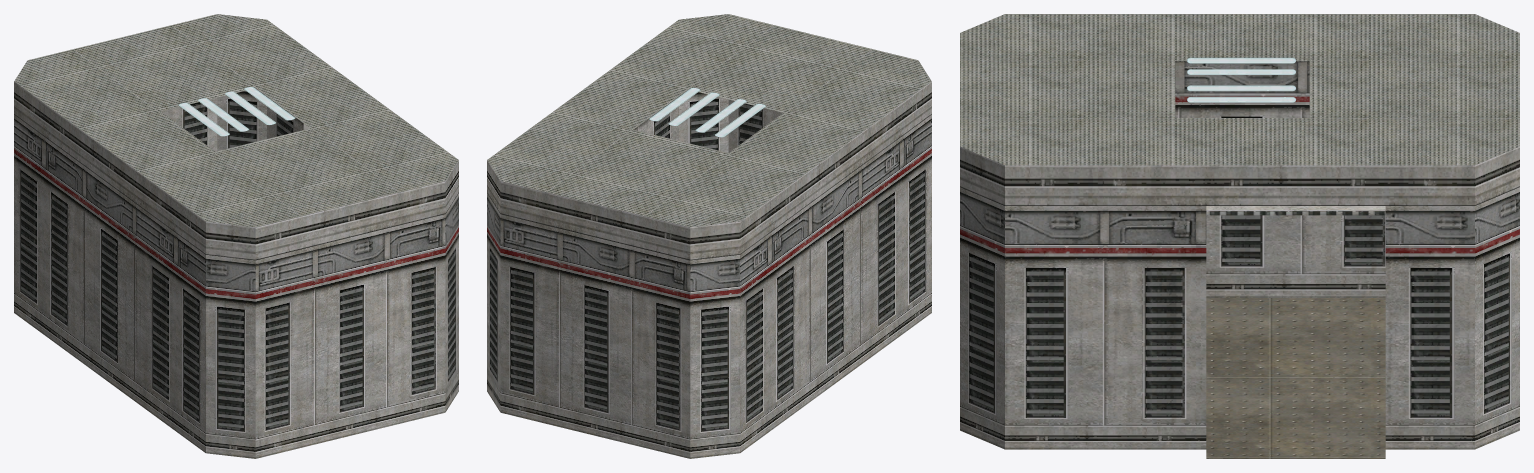
The model's file is mun_all_military_storage_shed_rebl_s01_r6_room3_mesh_room3.fbx.
3 renders of one model, left to right at view 1: azimuth 30°, elevation 25°; view 2: azimuth 150°, elevation 25°; view 3: azimuth 270°, elevation 25°, orthographic. The views are drawn at different scales.
Visible parts, largest first — view 1: mesh_node; view 2: mesh_node; view 3: mesh_node.
Part boxes in pixels (left/top/right/bottom): mesh_node: left=14, top=14, right=458, bottom=458; mesh_node: left=487, top=14, right=931, bottom=458; mesh_node: left=960, top=14, right=1519, bottom=458.
Size of the model in its own units: 4.25 by 3.63 by 6.25.
